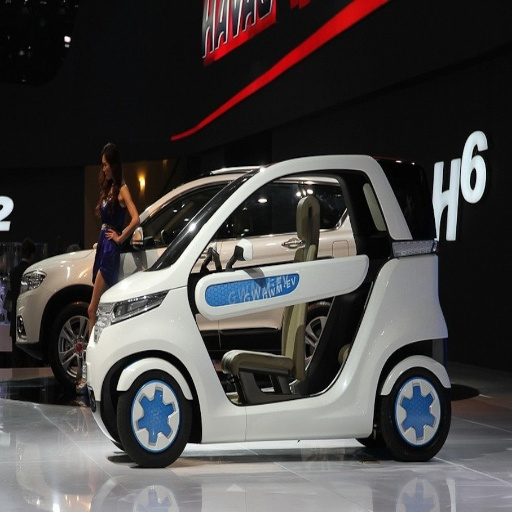front_bumper: (195, 288, 381, 442)
front_glass: (145, 187, 225, 267)
front_left_door: (197, 186, 276, 331)
